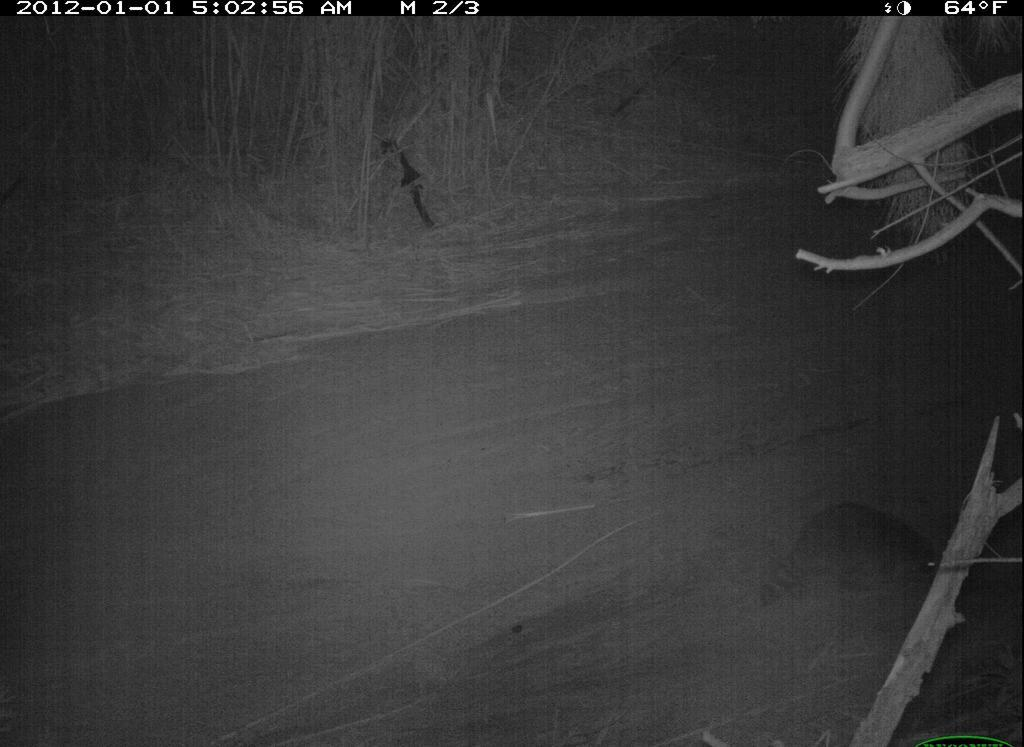raccoon: (752, 497, 945, 614)
